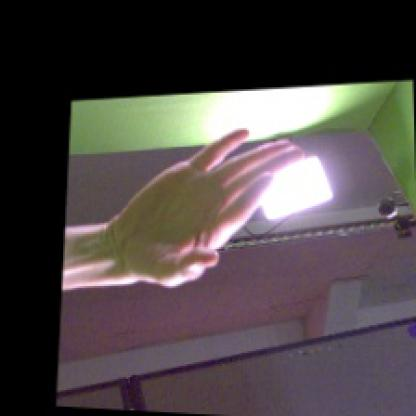Hand: (108, 125, 306, 291)
